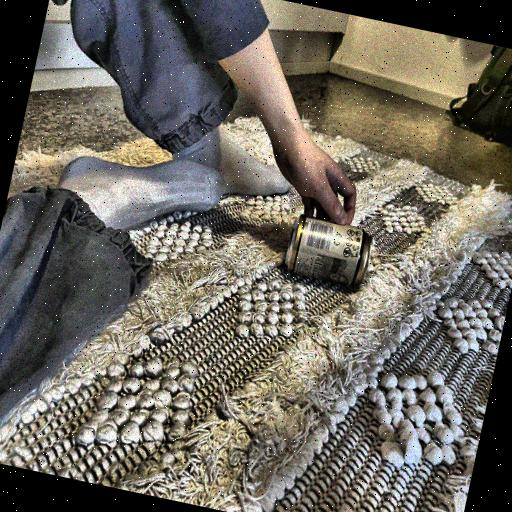sandels: (274, 206, 379, 291)
